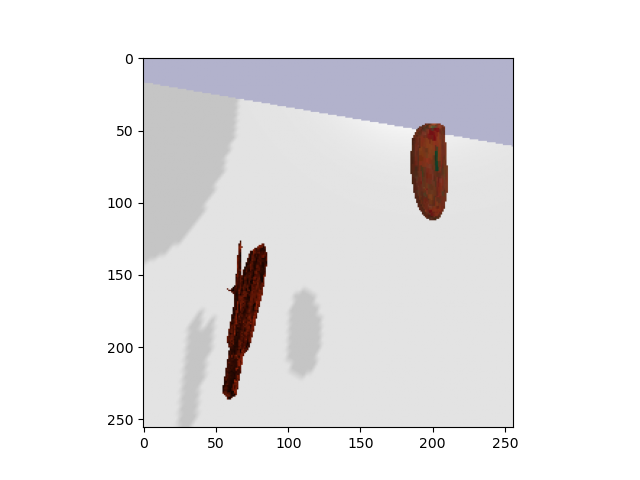v249b387_106: (402, 121, 461, 223)
v249b387_107: (211, 239, 281, 403)
